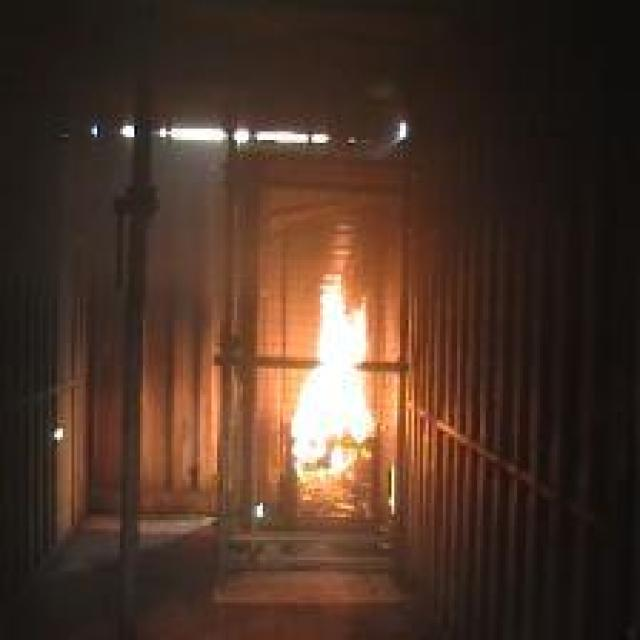fire: (253, 264, 386, 482)
other: (82, 111, 412, 149), (249, 495, 273, 517), (45, 418, 64, 444)
